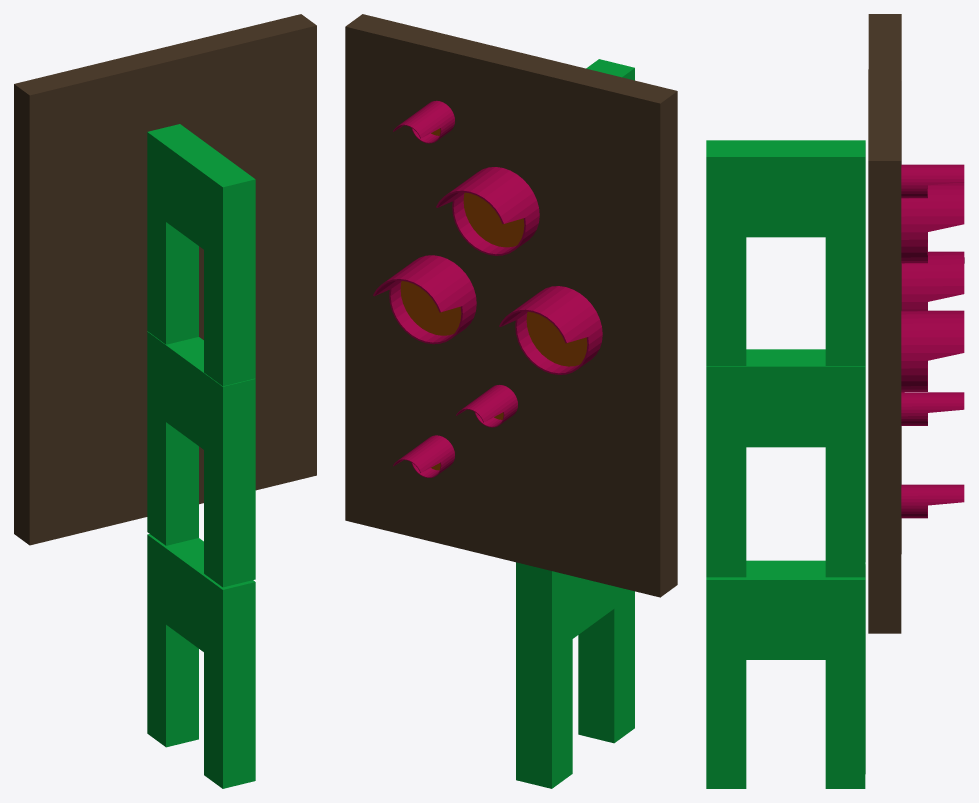
The model's file is advtrains_signals_ks_main_smr0.obj.
3 renders of one model, left to right at view 1: azimuth 30°, elevation 25°; view 2: azimuth 150°, elevation 25°; view 3: azimuth 270°, elevation 25°, orthographic. The views are drawn at different scales.
Visible parts, largest first — view 1: KsHauptsignal_Plane.006_Schirm, KsHauptsignal_Plane.006_Mast; view 2: KsHauptsignal_Plane.006_Schirm, KsHauptsignal_Plane.006_Mast, KsHauptsignal_Plane.006_Lampenrahmen, KsHauptsignal_Plane.006_Lights; view 3: KsHauptsignal_Plane.006_Mast, KsHauptsignal_Plane.006_Schirm, KsHauptsignal_Plane.006_Lampenrahmen.
Boxes of the visible parts, x1=… form: KsHauptsignal_Plane.006_Schirm: x1=14, y1=14, x2=316, y2=545; KsHauptsignal_Plane.006_Mast: x1=147, y1=124, x2=255, y2=788; KsHauptsignal_Plane.006_Schirm: x1=345, y1=14, x2=677, y2=597; KsHauptsignal_Plane.006_Mast: x1=516, y1=59, x2=634, y2=788; KsHauptsignal_Plane.006_Lampenrahmen: x1=373, y1=100, x2=602, y2=477; KsHauptsignal_Plane.006_Lights: x1=400, y1=128, x2=587, y2=470; KsHauptsignal_Plane.006_Mast: x1=706, y1=140, x2=865, y2=788; KsHauptsignal_Plane.006_Schirm: x1=868, y1=14, x2=901, y2=633; KsHauptsignal_Plane.006_Lampenrahmen: x1=901, y1=164, x2=964, y2=518.
Bounding box in the file's own units: 0.5 × 1.11 × 0.3706.
